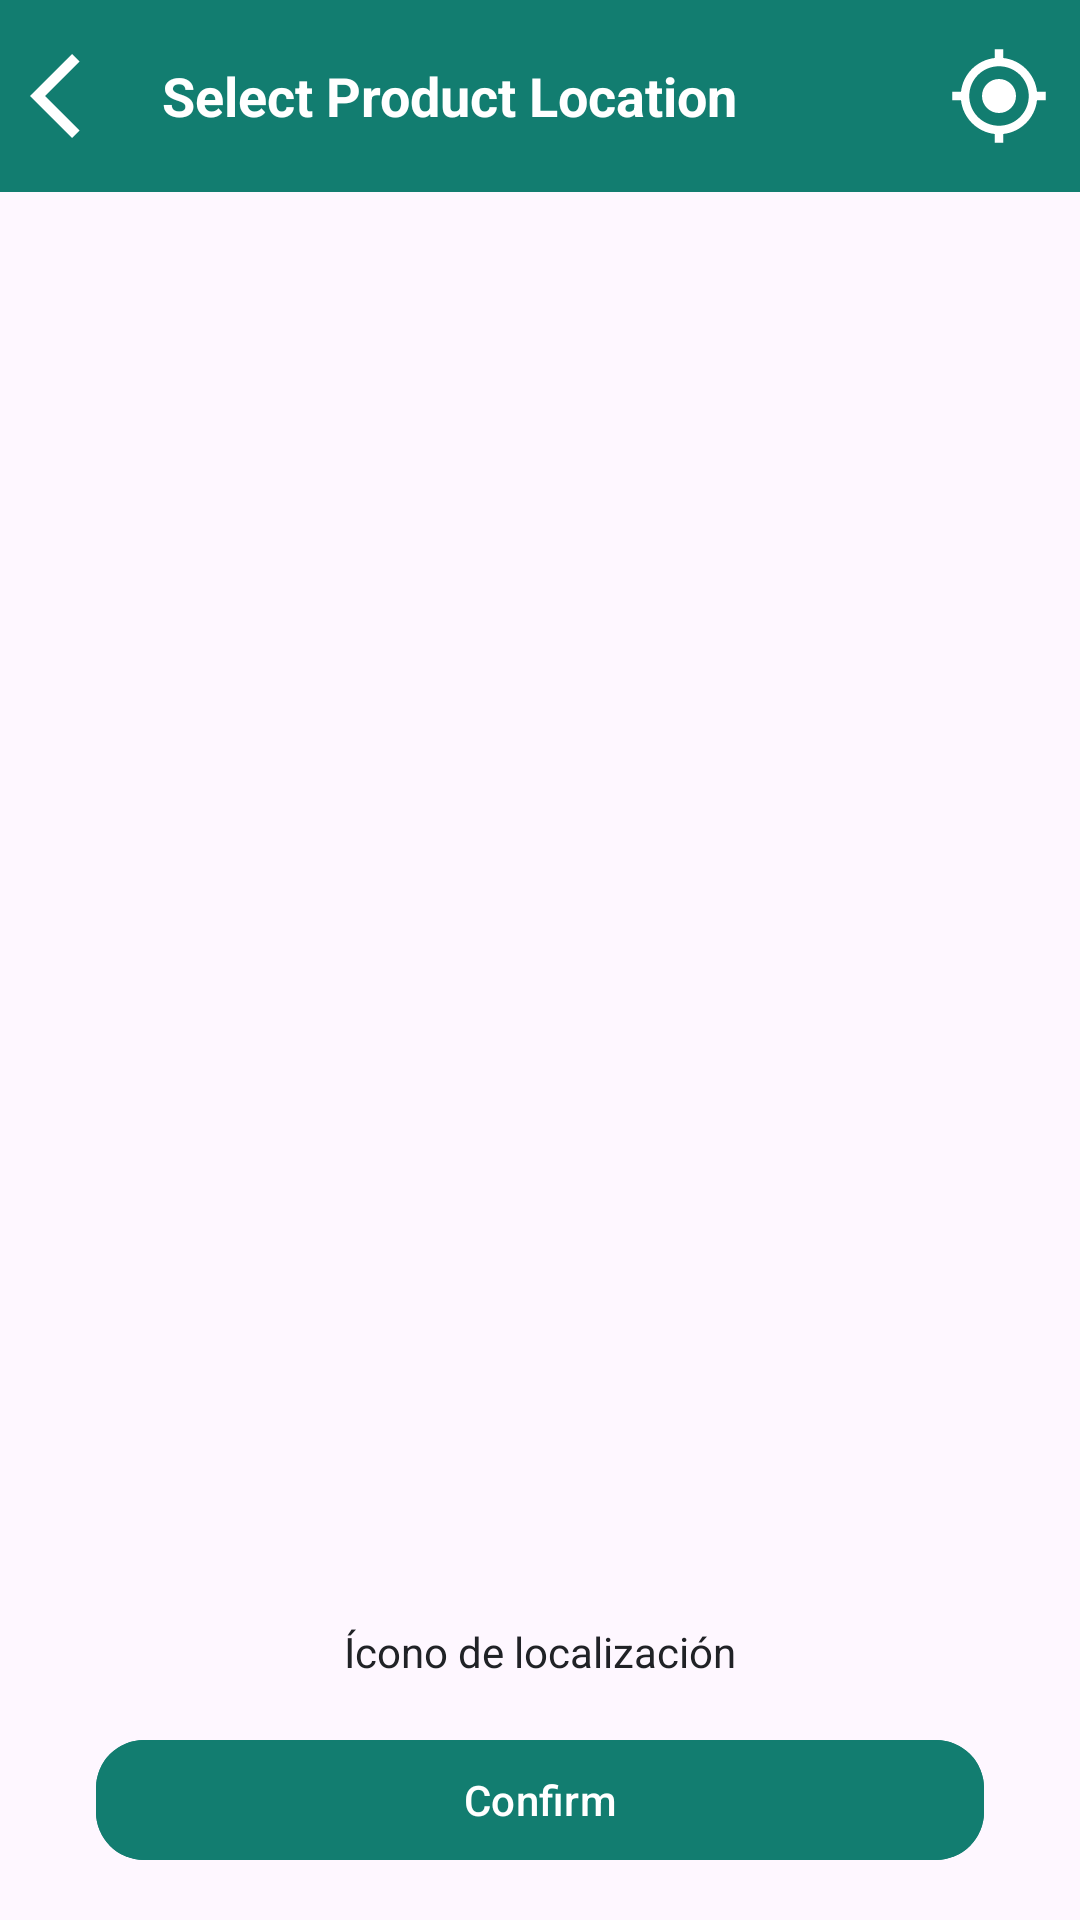

Named icons in this screenshot (1080x1920) and their bounding boxes, rect(x1, y1, x2, y2):
Back: rect(30, 54, 80, 138)
Center on my location: rect(952, 49, 1046, 143)
